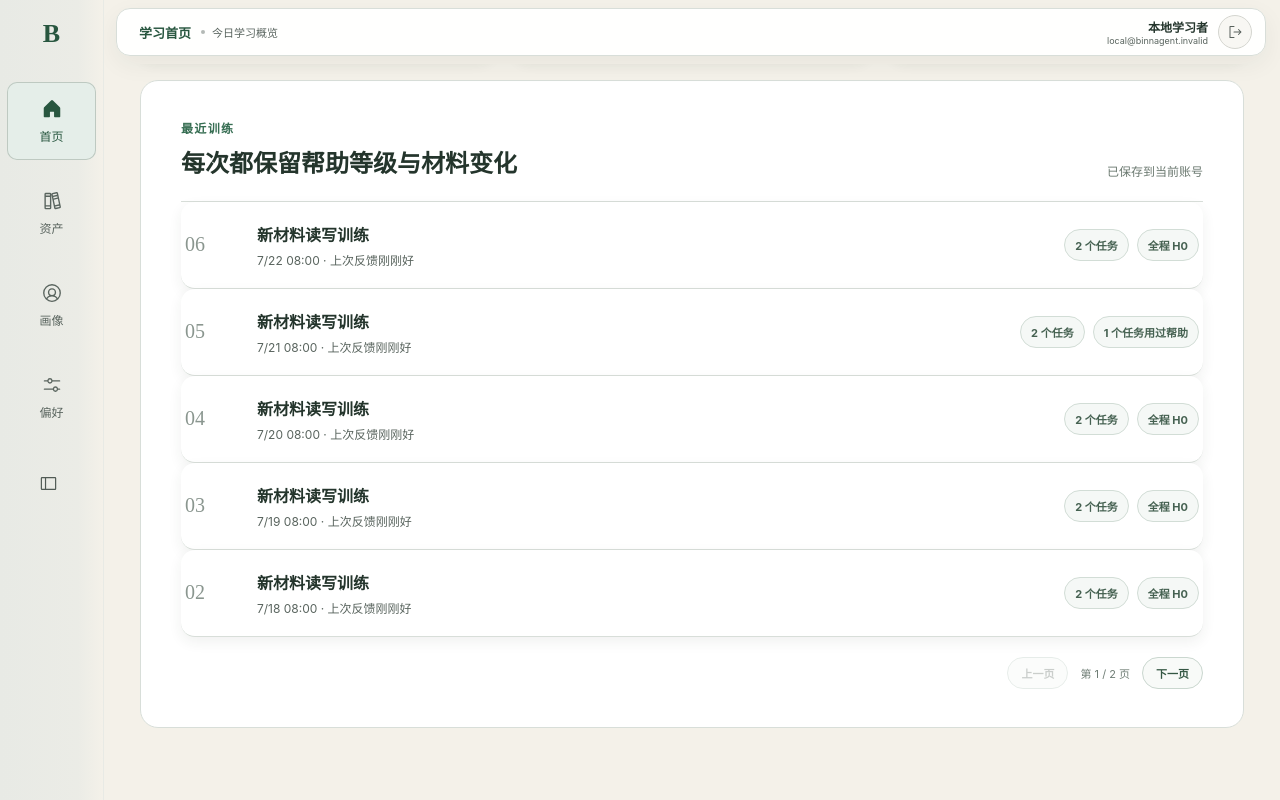
Test: learner home › pages account-scoped training history from the server
The width and height of the screenshot is (1280, 800).
(page scrolled)
Expected: the text "第 1 / 2 页" is shown, top-left (1080, 665), bottom-right (1130, 681)
Click the button "下一页": (1172, 673) top-left (1142, 657), bottom-right (1203, 689)
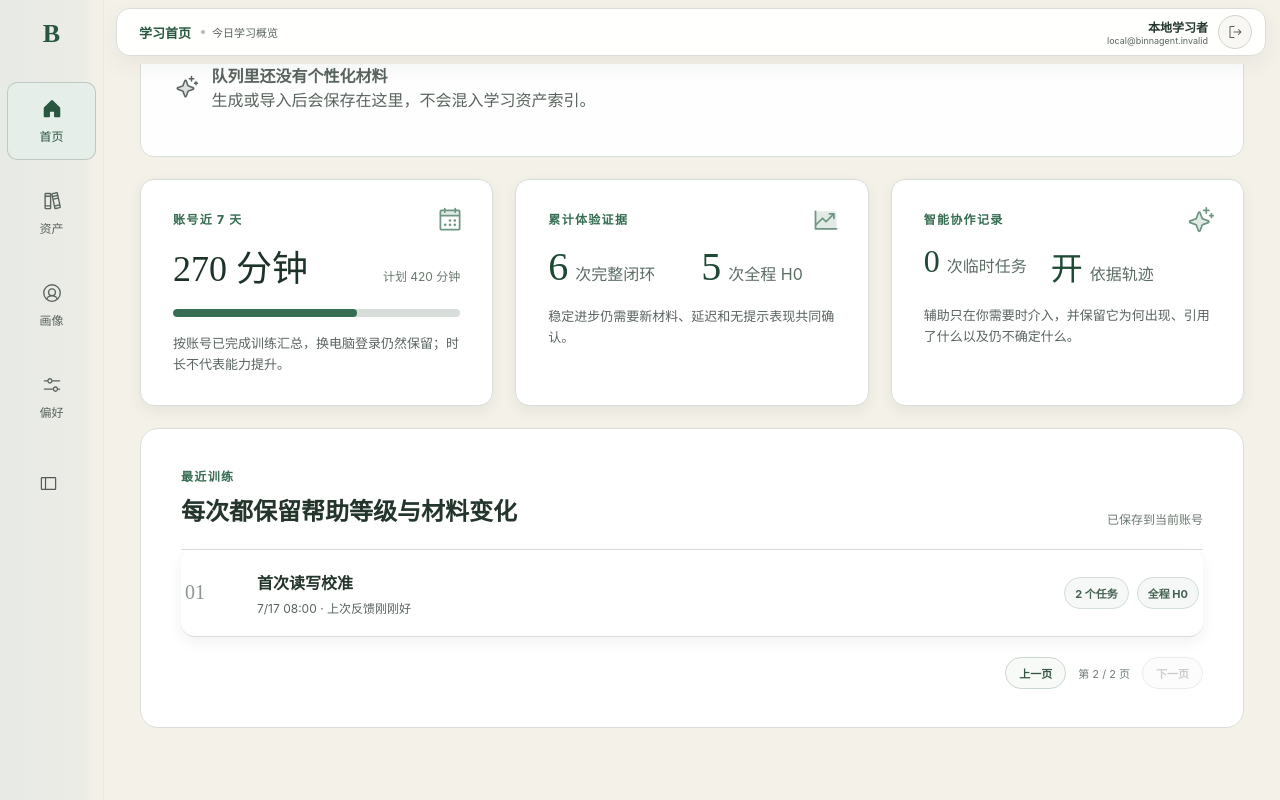
Expected: the text "已保存到当前账号" is shown, top-left (1107, 510), bottom-right (1203, 527)
Now the text "第 2 / 2 页" is shown, box top-left (1078, 665), bottom-right (1130, 681)
